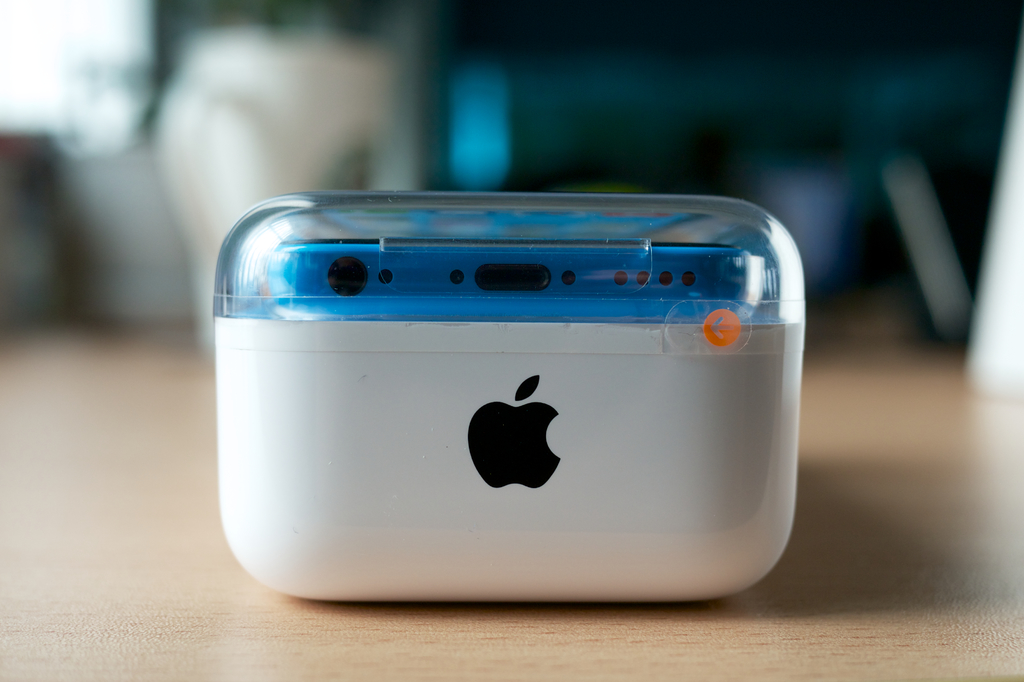Apple: (464, 373, 561, 490)
